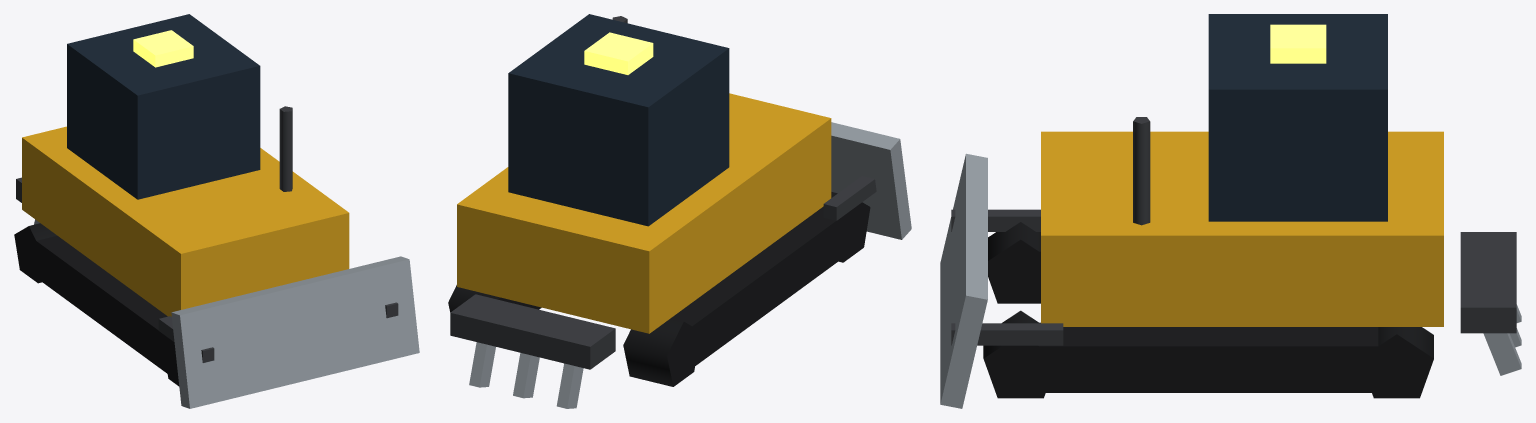
The model's file is veh_ground_bulldozer_a08_lod1.glb.
The picture shows the model from 3 angles, left to right: view 1: azimuth 30°, elevation 25°; view 2: azimuth 150°, elevation 25°; view 3: azimuth 270°, elevation 25°; orthographic projection. The views are drawn at different scales.
Visible parts, largest first — view 1: body, blade, track_r; view 2: body, track_r, ripper, blade, track_l; view 3: body, track_l, blade, ripper, track_r.
Boxes of the visible parts, <box> form: body: <box>22,14,349,316</box>; blade: <box>158,256,419,408</box>; track_r: <box>14,223,179,386</box>; body: <box>457,14,831,333</box>; track_r: <box>623,192,870,386</box>; ripper: <box>450,294,615,408</box>; blade: <box>823,122,911,239</box>; track_l: <box>448,285,541,312</box>; body: <box>1041,14,1443,326</box>; track_l: <box>983,310,1433,398</box>; blade: <box>940,153,1063,408</box>; ripper: <box>1460,232,1521,375</box>; track_r: <box>988,222,1040,303</box>.
Bounding box in the file's own units: 3 × 3.08 × 5.19.
